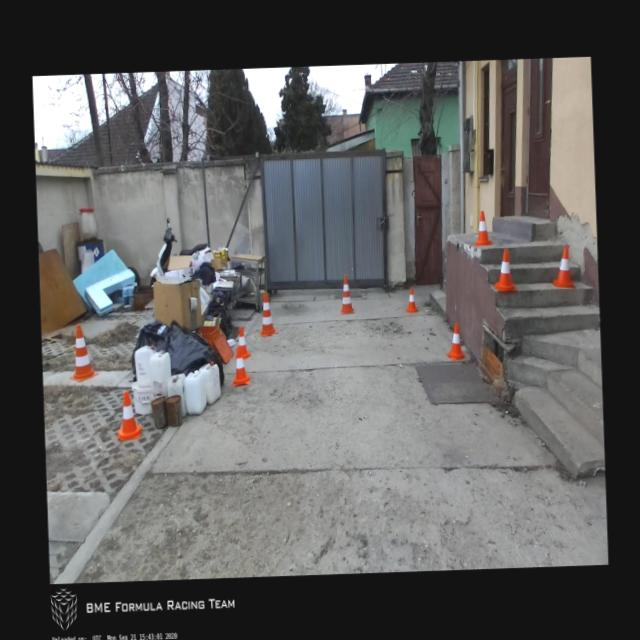large_orange_cone: (68, 324, 98, 382), (257, 291, 278, 337), (339, 274, 354, 314)
orange_cone: (115, 390, 142, 440), (491, 248, 516, 292), (551, 245, 575, 288), (446, 322, 466, 360), (232, 346, 250, 387), (473, 210, 492, 246), (232, 326, 250, 360), (404, 286, 419, 312)
